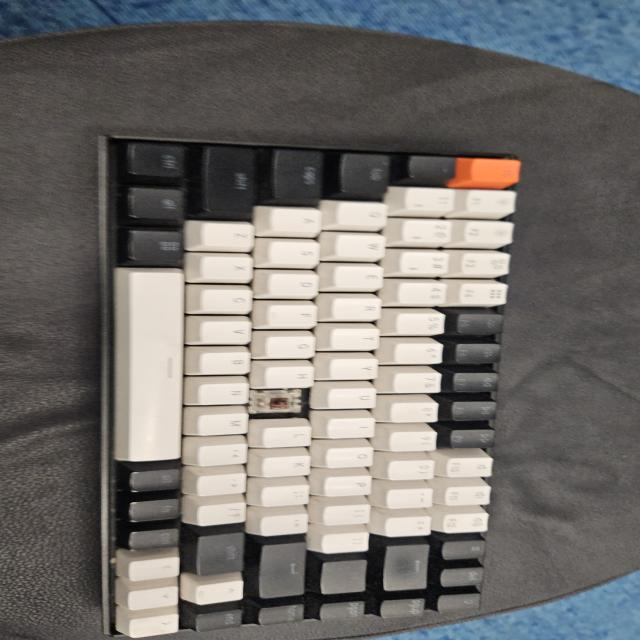C: (252, 386, 301, 416)
